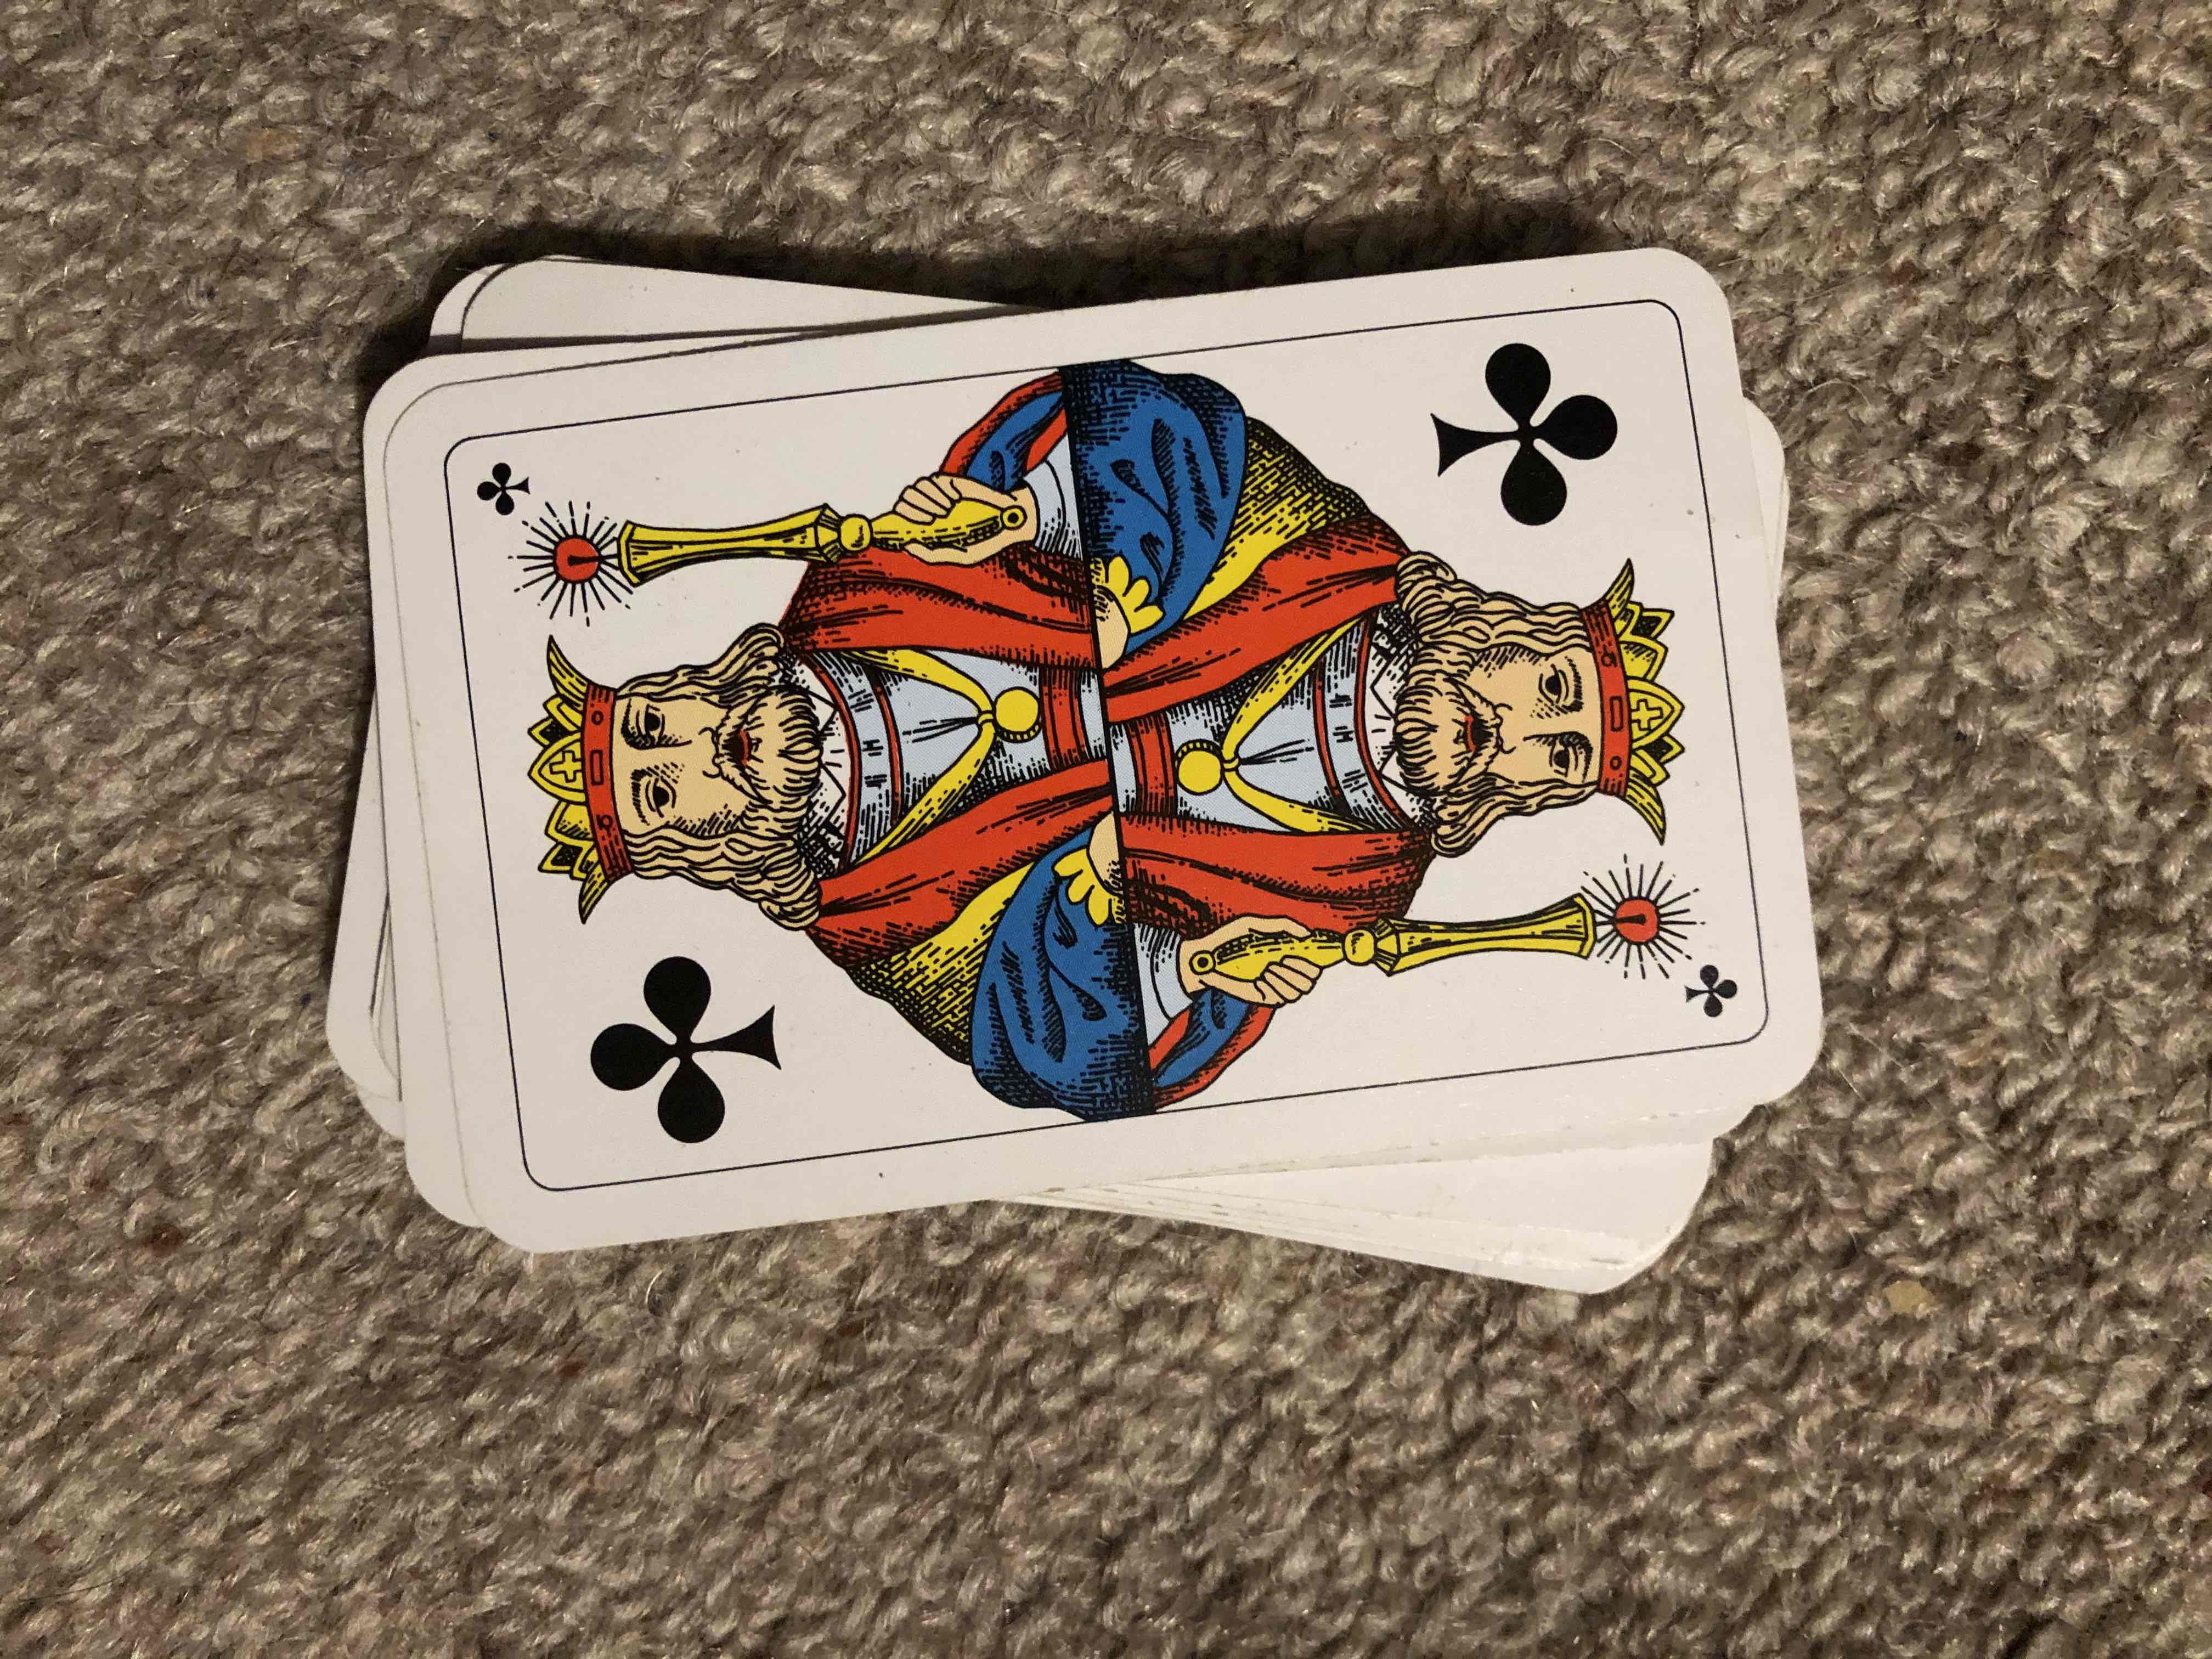clubsKing: (394, 328, 1820, 1166)
